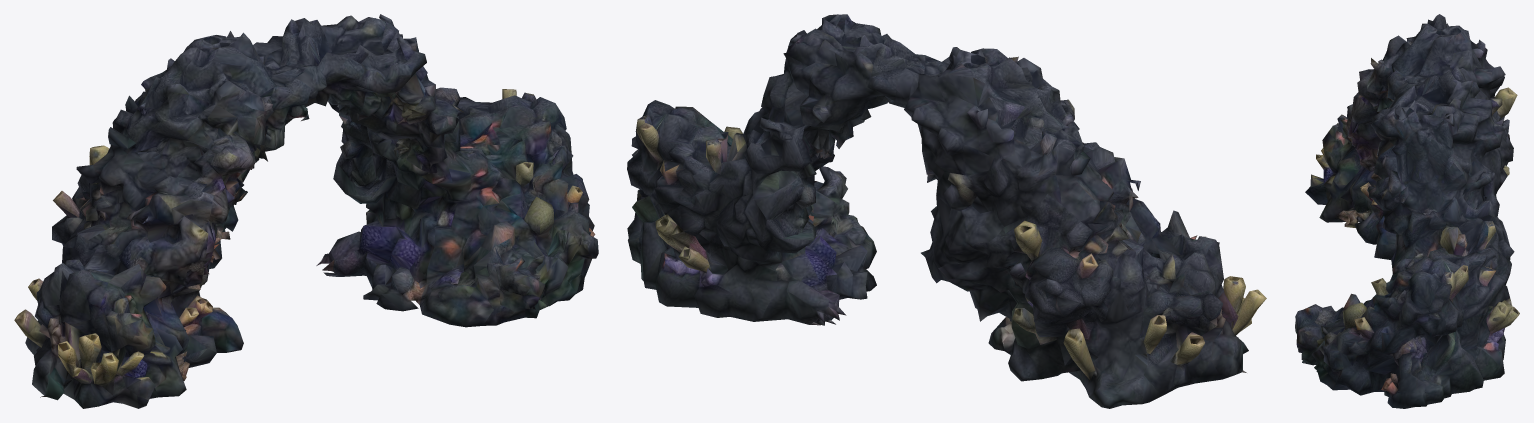
Rendered from coraltunnel.glb.
3 renders of one model, left to right at view 1: azimuth 30°, elevation 25°; view 2: azimuth 150°, elevation 25°; view 3: azimuth 270°, elevation 25°, orthographic. The views are drawn at different scales.
Visible parts, largest first — view 1: coraltunnel; view 2: coraltunnel; view 3: coraltunnel.
Boxes of the visible parts, box(x1,y1,x2,y2) form: coraltunnel: box(14, 14, 598, 408); coraltunnel: box(627, 14, 1266, 408); coraltunnel: box(1295, 14, 1519, 408).
Size of the model in its own units: 1.9 by 0.8952 by 0.7619.
Materials: 1 (1 with a texture image).
